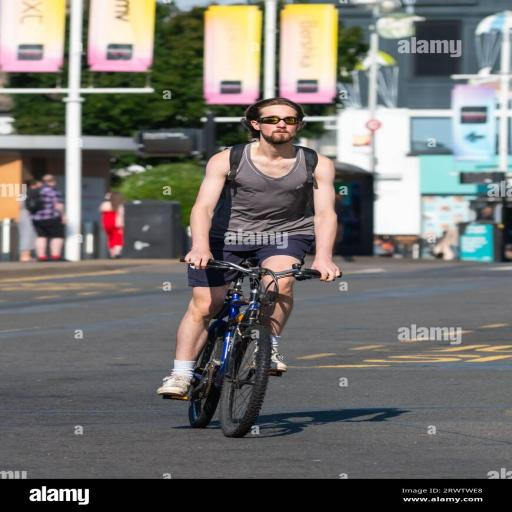no_helm: (230, 92, 322, 155)
